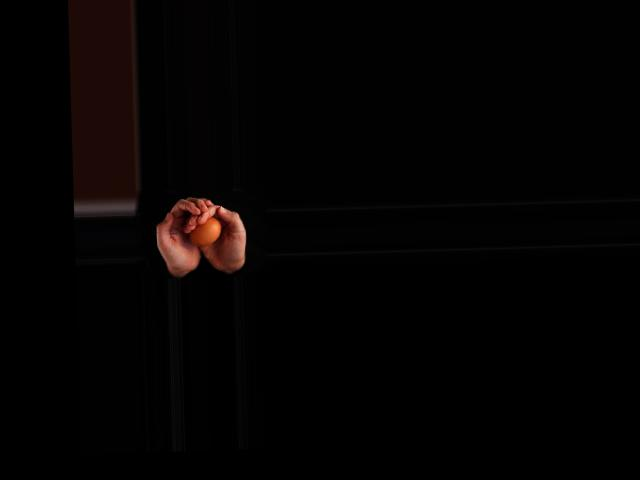egg: (186, 217, 221, 246)
